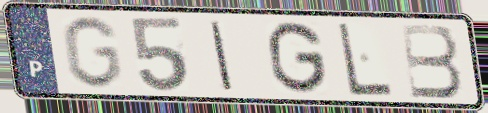5: (130, 15, 192, 94)
B: (397, 22, 466, 100)
G: (59, 14, 124, 91), (266, 19, 330, 96)
I: (207, 19, 236, 93)
L: (335, 21, 396, 98)
